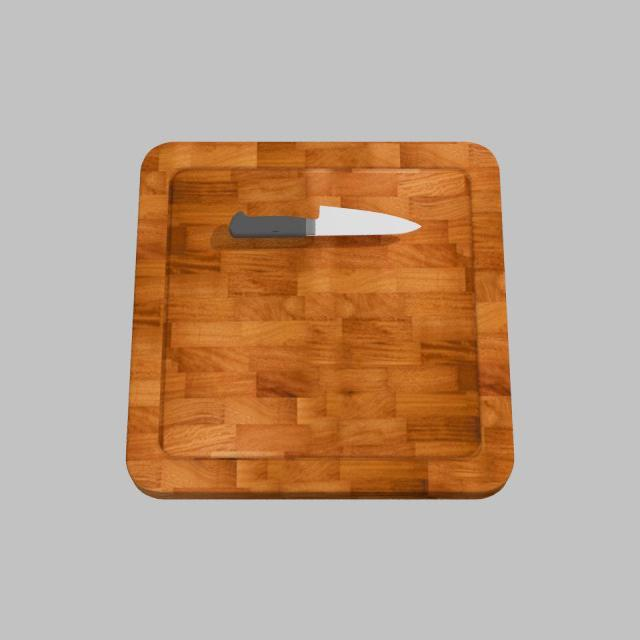knife: (228, 212, 306, 238)
